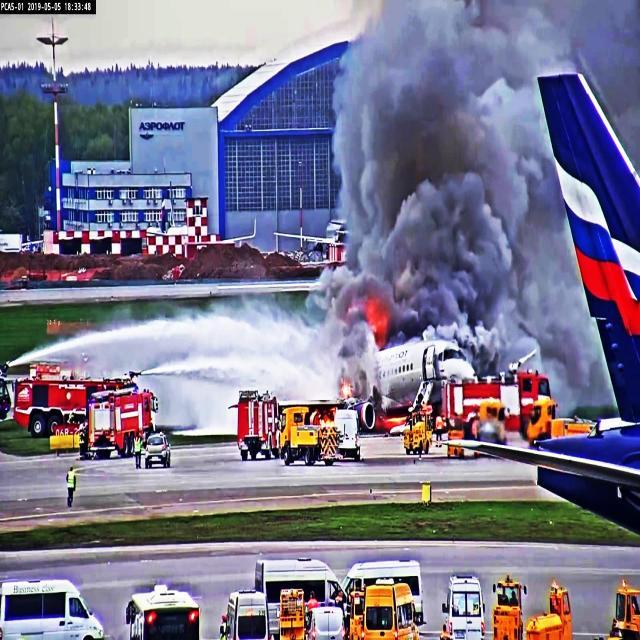Smoke: (379, 7, 522, 320)
